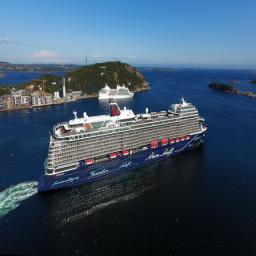cruises: (37, 96, 210, 197), (98, 83, 136, 102)
